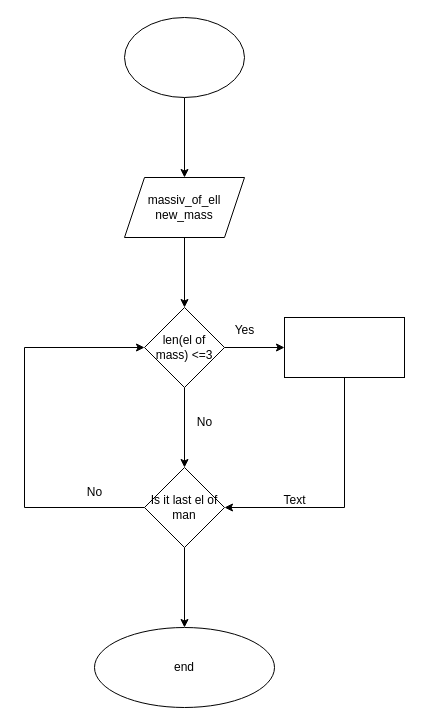
The diagram is 422 pixels wide and 725 high, and some of its shapes have lost their labels. The centre of each missing label's shape, as x and y in pixels:
add el to new_mass: [344,347]
begin: [184,57]
